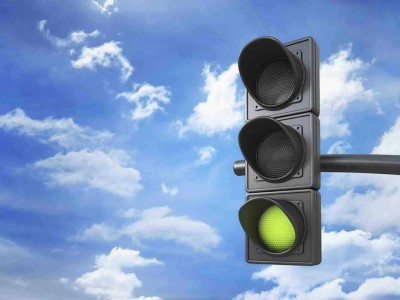trafficlight_green: (241, 46, 303, 254)
